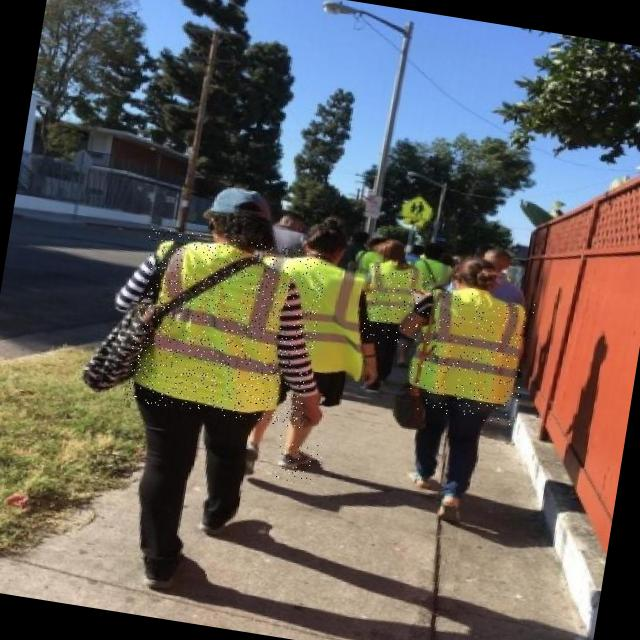safety_vest: (122, 227, 328, 428), (404, 286, 536, 426), (358, 266, 437, 352)
work_boots: (273, 434, 324, 488)
